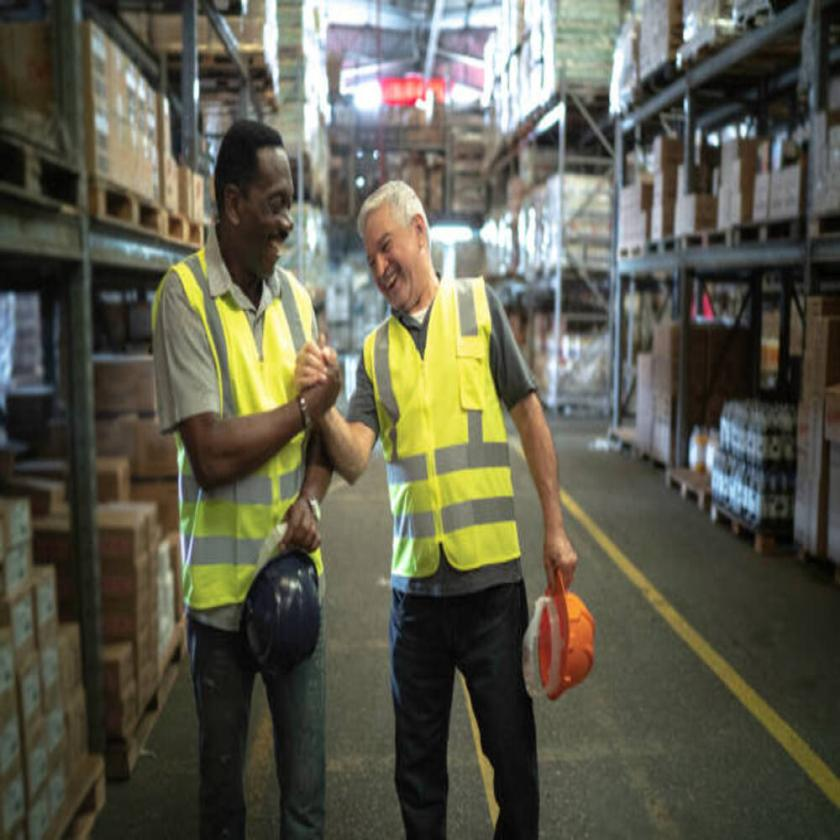Sin_casco: (212, 117, 299, 306), (354, 178, 436, 318)
